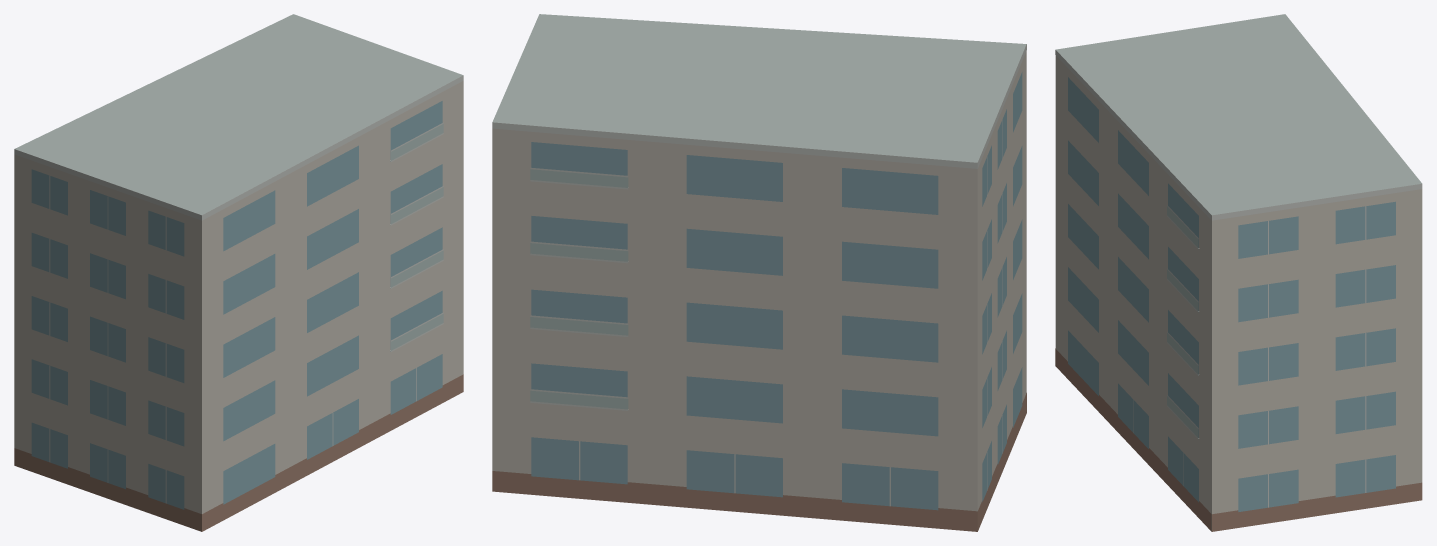
Rendered from survey-upis-32765758.glb.
3 renders of one model, left to right at view 1: azimuth 30°, elevation 25°; view 2: azimuth 150°, elevation 25°; view 3: azimuth 270°, elevation 25°, orthographic. The views are drawn at different scales.
Parts seen in each view (by area): view 1: survey-upis-32765758.tmp; view 2: survey-upis-32765758.tmp; view 3: survey-upis-32765758.tmp.
Boxes of the visible parts, <box> form: survey-upis-32765758.tmp: <box>14,14,463,531</box>; survey-upis-32765758.tmp: <box>492,14,1026,531</box>; survey-upis-32765758.tmp: <box>1055,14,1422,531</box>.
Bounding box in the file's own units: 19.79 × 14.5 × 15.24.
